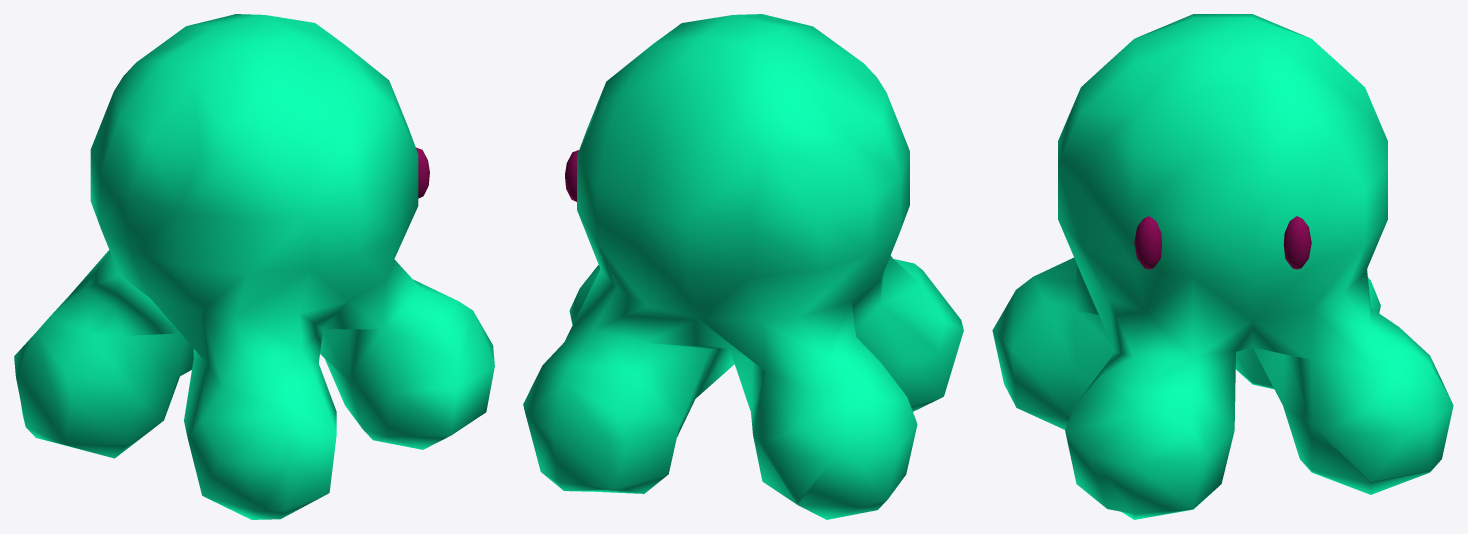
Rendered from slime.fbx.
3 renders of one model, left to right at view 1: azimuth 30°, elevation 25°; view 2: azimuth 150°, elevation 25°; view 3: azimuth 270°, elevation 25°, orthographic. The views are drawn at different scales.
Parts seen in each view (by area): view 1: body; view 2: body; view 3: body, eyes.
Boxes of the visible parts, x1,y1,x2,y2 form: body: [14, 14, 494, 519]; body: [523, 14, 963, 519]; body: [992, 14, 1453, 519]; eyes: [1134, 216, 1311, 269].
Size of the model in its own units: 312 by 318 by 312.
